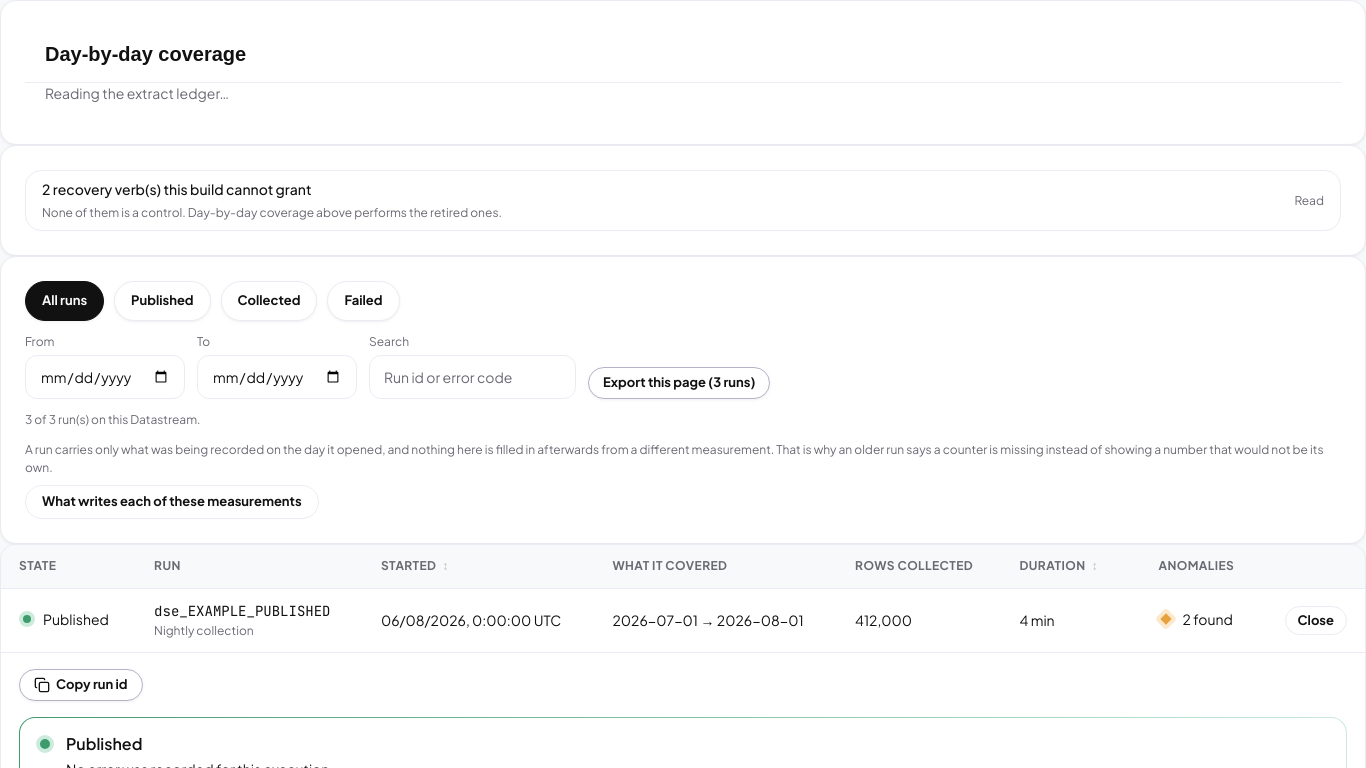
Test: filtering and the strip › asks the server for the state, instead of narrowing the page it holds
Click the radio button labelled "Failed".
click(363, 301)  # box [327,281,400,321]
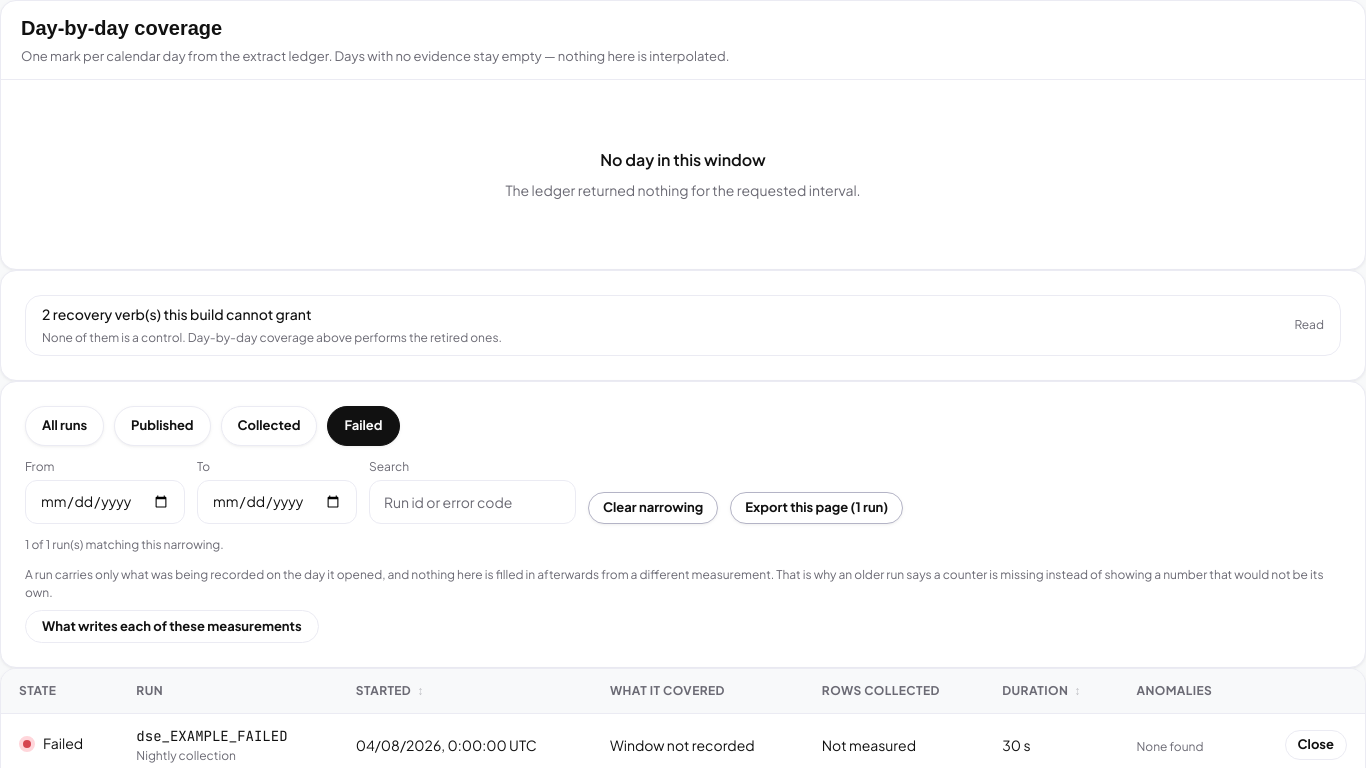
Expected: the text "dse_EXAMPLE_FAILED" is shown, [136,726,288,744]
Click the radio button labelled "All runs".
click(65, 426)  # box [25,406,104,446]
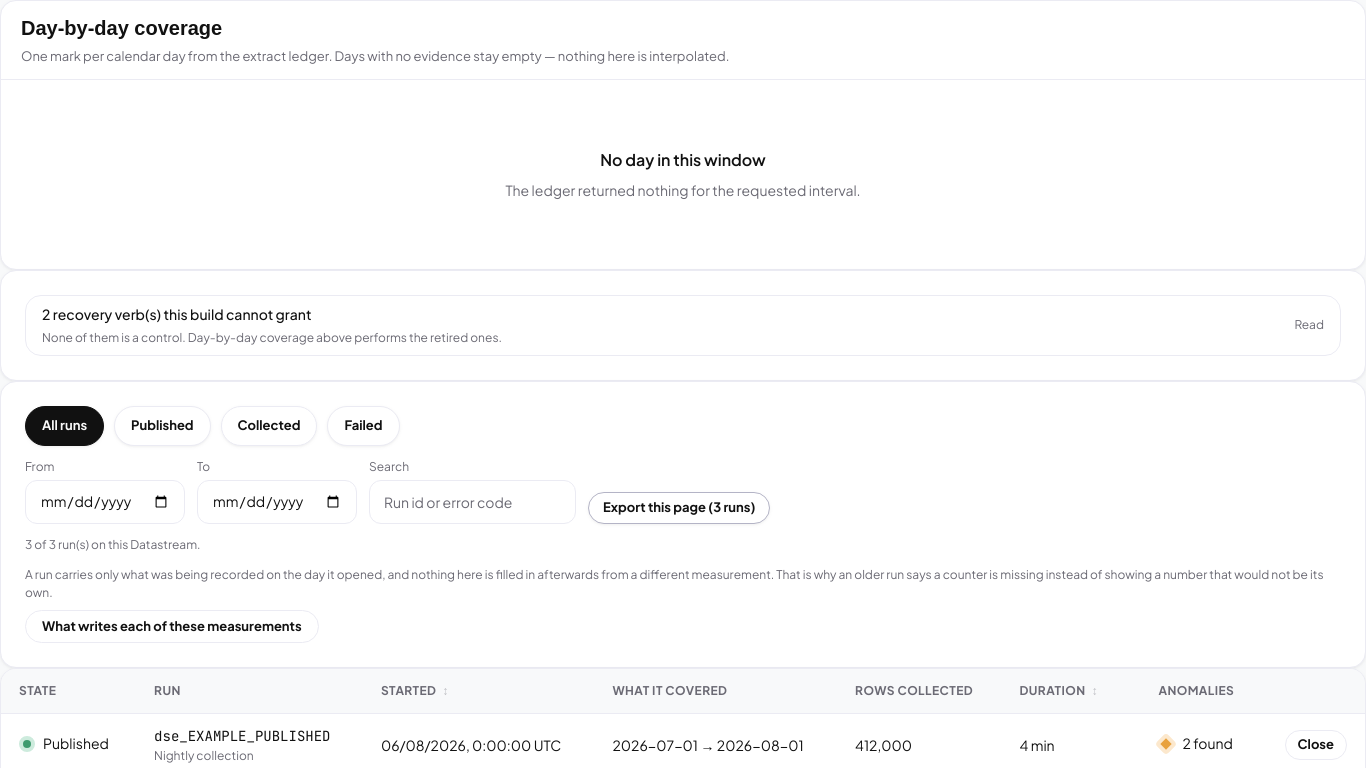
Result: the number of tables with test id "run-block" is 3
